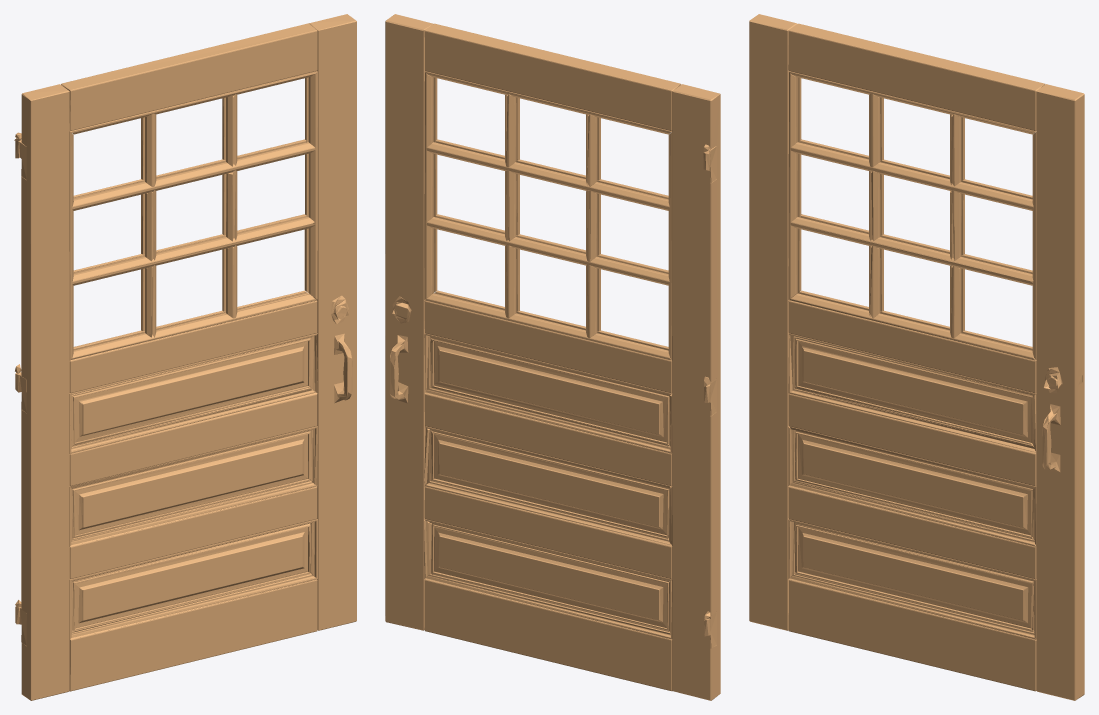
The model's file is SM_BackDoor_A_Door3.fbx.
The picture shows the model from 3 angles, left to right: view 1: azimuth 30°, elevation 25°; view 2: azimuth 150°, elevation 25°; view 3: azimuth 330°, elevation 25°; orthographic projection.
Parts seen in each view (by area): view 1: SM_BackDoor_A_Door3; view 2: SM_BackDoor_A_Door3; view 3: SM_BackDoor_A_Door3.
Boxes of the visible parts, <box> form: SM_BackDoor_A_Door3: <box>14,14,356,700</box>; SM_BackDoor_A_Door3: <box>385,14,720,700</box>; SM_BackDoor_A_Door3: <box>749,14,1084,700</box>.
Bounding box in the file's own units: 126 × 21.98 × 220.
